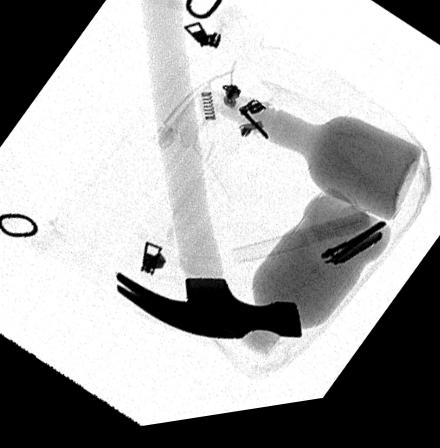Hammer: (115, 0, 302, 347)
